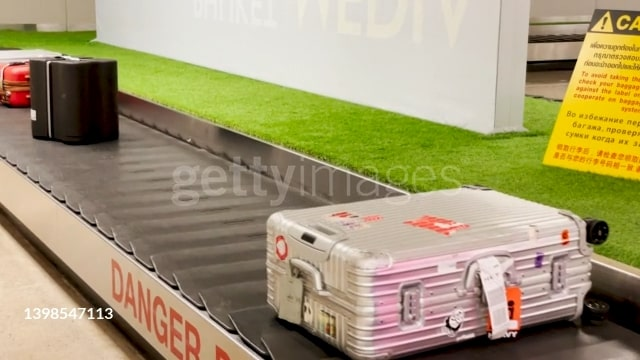baggage: (255, 181, 612, 350), (26, 54, 120, 145)
